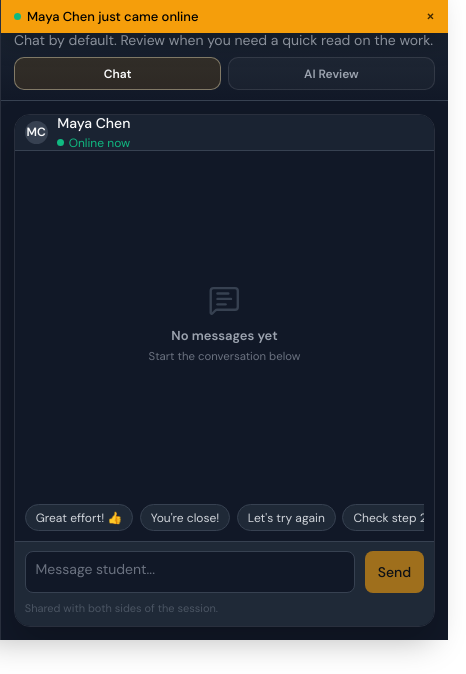
it: RightSidePanel › shows an online toast when the student comes online and allows manual dismissal
Check: the text "Maya Chen just came online" is shown, box [27, 6, 198, 26]
Step 1. Click the button named "Dismiss presence notification" → click(430, 16), box [426, 8, 435, 24]
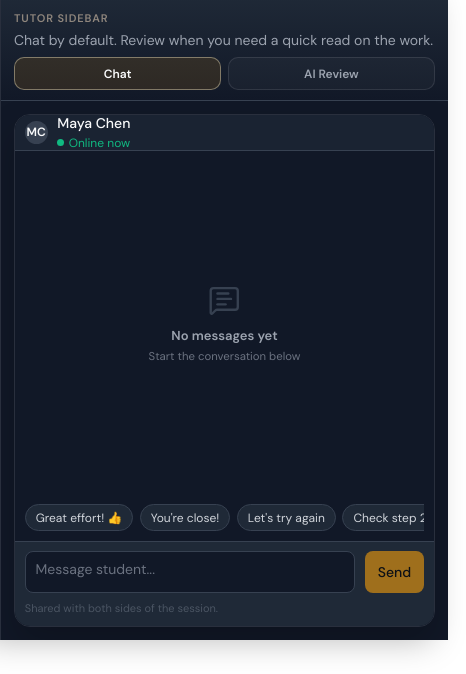
Check: the text "Maya Chen just came online" is gone
